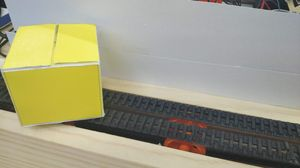box4: (2, 21, 105, 127)
